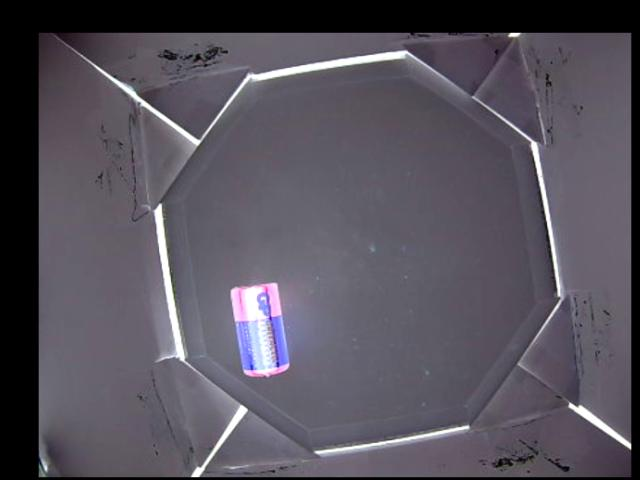Battery: (226, 281, 289, 377)
